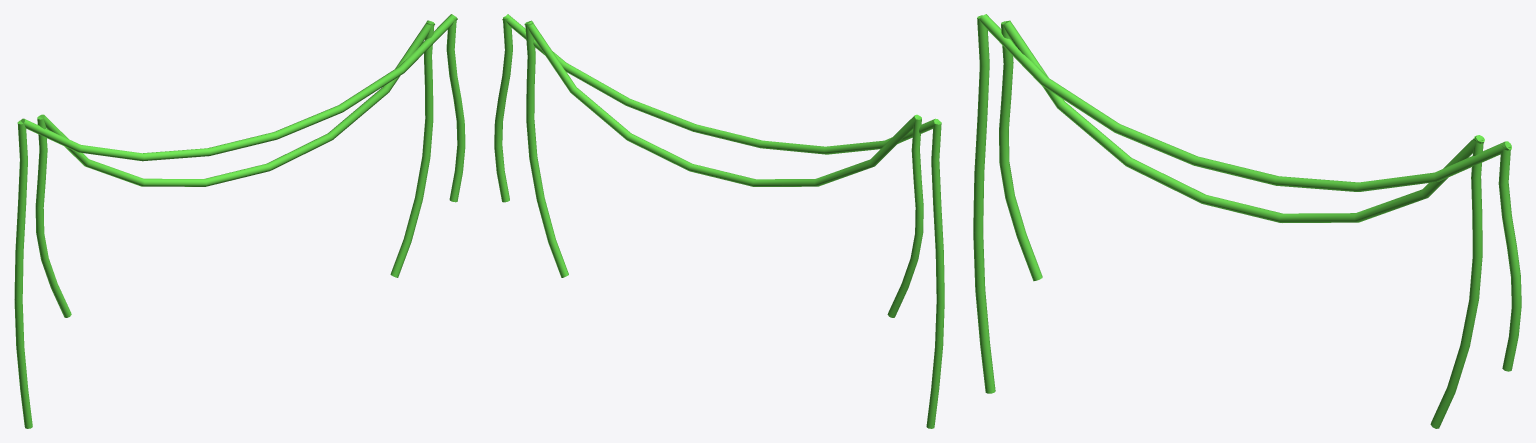
Rendered from Vines1.fbx.
The picture shows the model from 3 angles, left to right: view 1: azimuth 30°, elevation 25°; view 2: azimuth 150°, elevation 25°; view 3: azimuth 330°, elevation 25°; orthographic projection. The views are drawn at different scales.
Visible parts, largest first — view 1: NurbsPath.001, NurbsPath, NurbsPath.002, NurbsPath.005, NurbsPath.003, NurbsPath.004; view 2: NurbsPath, NurbsPath.001, NurbsPath.002, NurbsPath.005, NurbsPath.003, NurbsPath.004; view 3: NurbsPath.001, NurbsPath, NurbsPath.002, NurbsPath.005, NurbsPath.003, NurbsPath.004.
Part boxes in pixels (bbox=[...]): NurbsPath.001: bbox=[20, 14, 457, 161]; NurbsPath: bbox=[39, 20, 434, 186]; NurbsPath.002: bbox=[14, 120, 32, 428]; NurbsPath.005: bbox=[390, 21, 434, 277]; NurbsPath.003: bbox=[35, 116, 71, 317]; NurbsPath.004: bbox=[446, 16, 465, 202]; NurbsPath: bbox=[524, 20, 919, 186]; NurbsPath.001: bbox=[502, 14, 939, 154]; NurbsPath.002: bbox=[926, 121, 944, 428]; NurbsPath.005: bbox=[525, 21, 568, 277]; NurbsPath.003: bbox=[887, 116, 923, 317]; NurbsPath.004: bbox=[494, 16, 512, 202]; NurbsPath.001: bbox=[979, 14, 1511, 191]; NurbsPath: bbox=[1002, 20, 1484, 222]; NurbsPath.002: bbox=[973, 15, 995, 393]; NurbsPath.005: bbox=[1430, 136, 1483, 428]; NurbsPath.003: bbox=[999, 21, 1042, 281]; NurbsPath.004: bbox=[1498, 144, 1521, 371].
Bounding box in the file's own units: 461 × 303 × 17.18.
